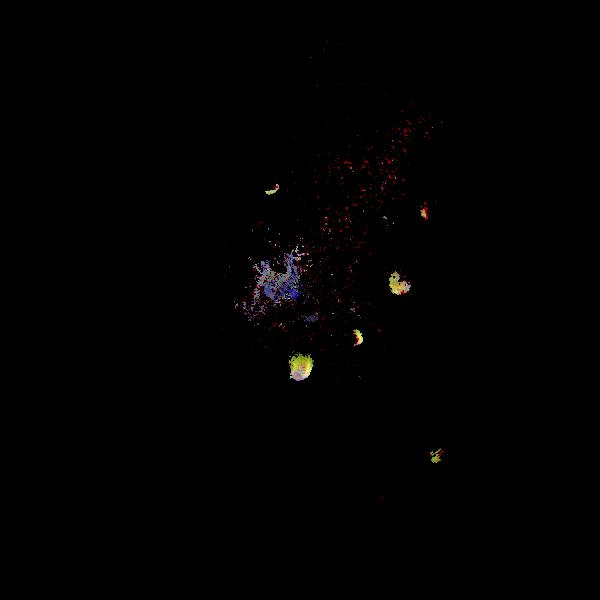roost: (384, 266, 420, 302), (429, 443, 465, 479), (285, 355, 318, 388), (342, 328, 363, 349), (420, 203, 441, 224), (265, 181, 280, 196)
